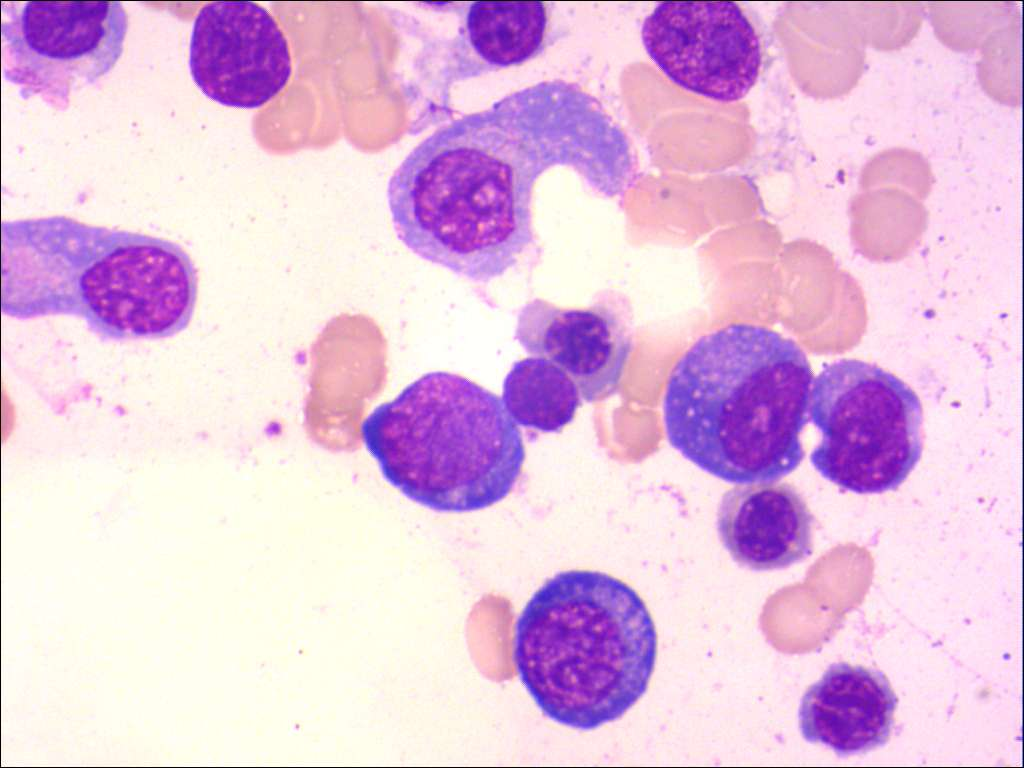23: (510, 286, 637, 405), (796, 658, 902, 762)
24: (713, 481, 818, 575)
32: (499, 355, 585, 438)
51: (385, 75, 643, 287), (1, 212, 200, 348), (663, 321, 815, 485), (510, 567, 660, 733), (358, 368, 526, 516), (807, 355, 928, 498)
x: (401, 1, 554, 133), (1, 1, 131, 115), (638, 1, 766, 108), (187, 1, 295, 112)
